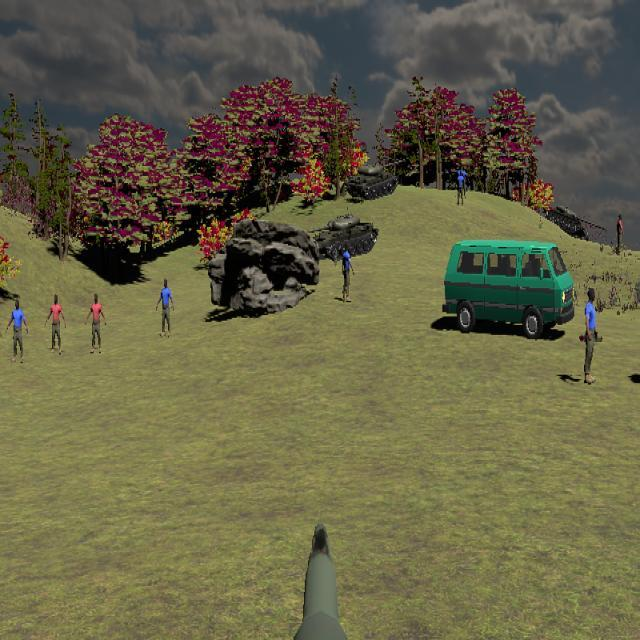Human: (6, 298, 28, 363), (584, 287, 598, 382), (45, 294, 67, 354), (85, 293, 106, 354), (585, 288, 598, 383), (156, 278, 175, 338), (341, 242, 354, 303)
Tank: (301, 213, 379, 262), (531, 202, 606, 243), (344, 162, 399, 200)
car: (443, 239, 575, 338)
